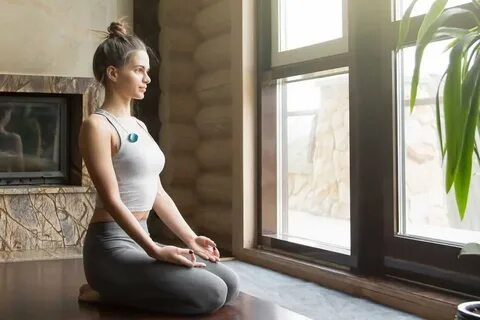awake: (77, 21, 240, 315)
